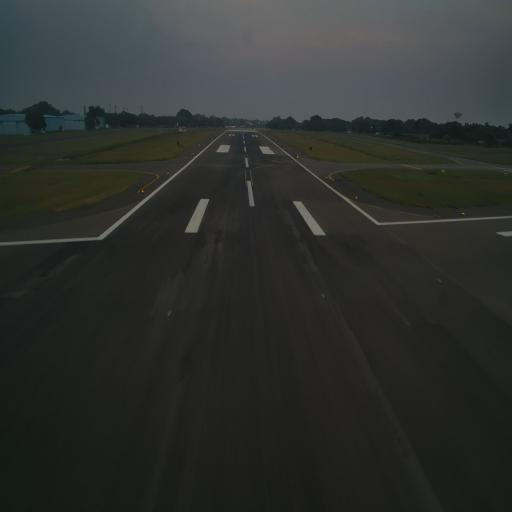on: (140, 186, 146, 194), (460, 208, 465, 217), (354, 194, 359, 203)
